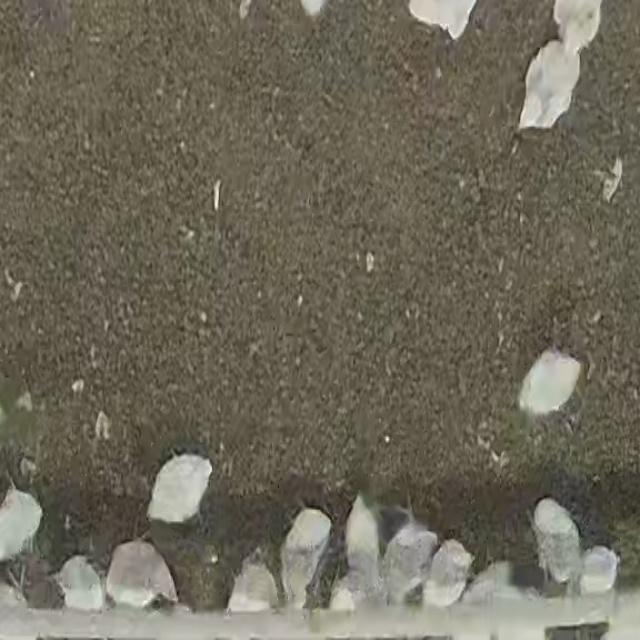chicken: (513, 43, 583, 136), (276, 504, 336, 610), (510, 342, 589, 422), (107, 534, 184, 612), (146, 451, 215, 527), (530, 496, 582, 591)
